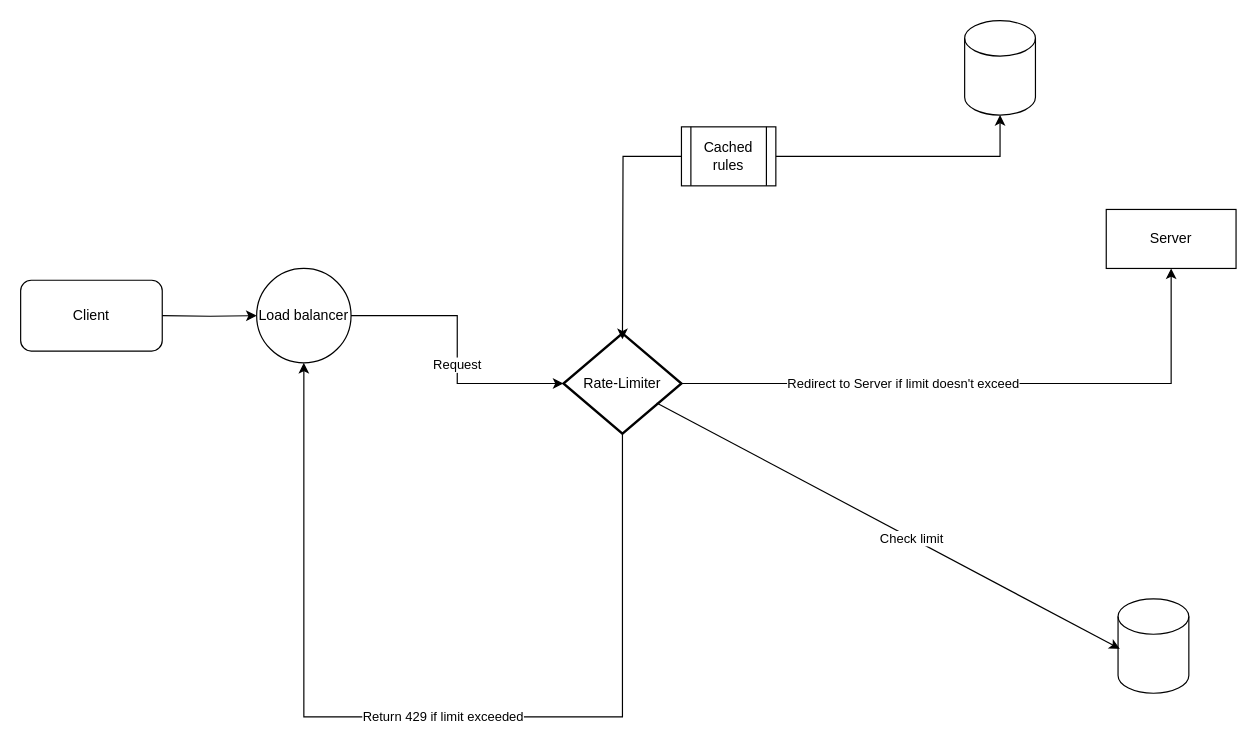
The diagram is 1257 pixels wide and 747 high, and some of its shapes have lost their labels. The centre of each missing label's shape, as x and y in pixels:
"Redis" belongs at point 1153,645.
"RulesDB" belongs at point 999,67.
